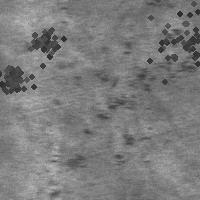rolled-in_scale: (63, 59, 193, 171), (131, 0, 200, 100), (20, 13, 68, 61), (0, 55, 31, 99)
